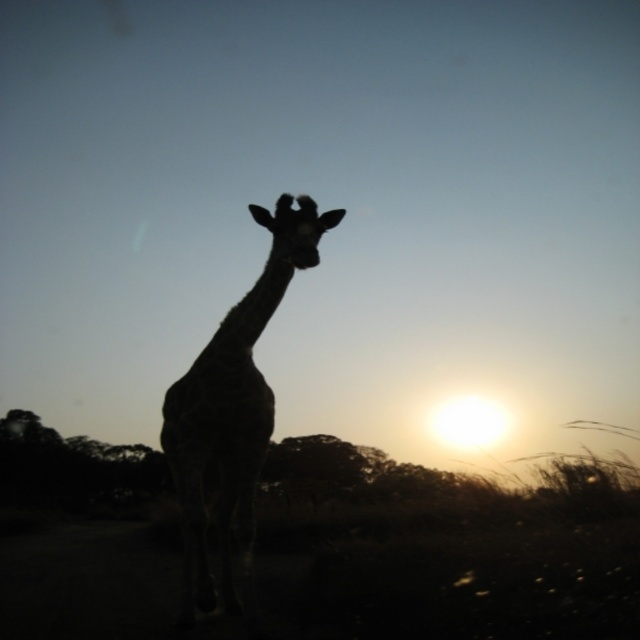Giraffe: (164, 192, 340, 454)
